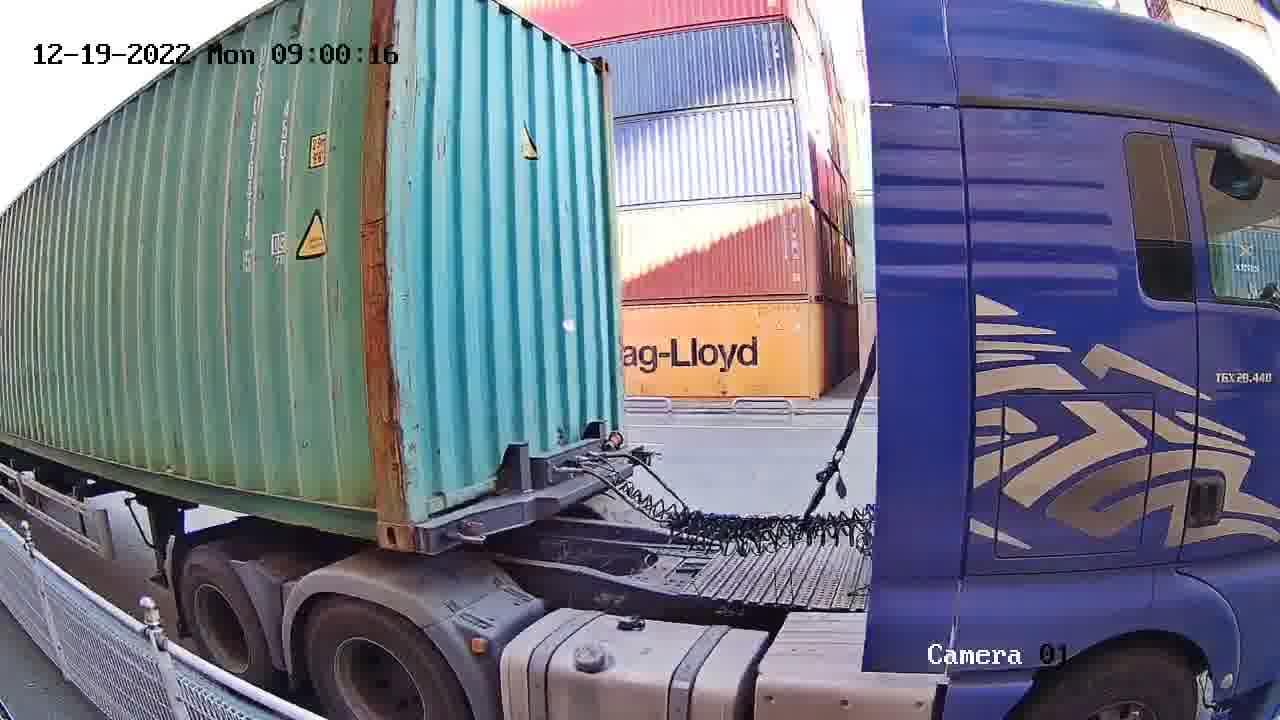Chassis: (416, 446, 654, 556)
Hole_R: (343, 482, 414, 551)
Tire: (305, 600, 456, 716), (180, 548, 266, 684)
